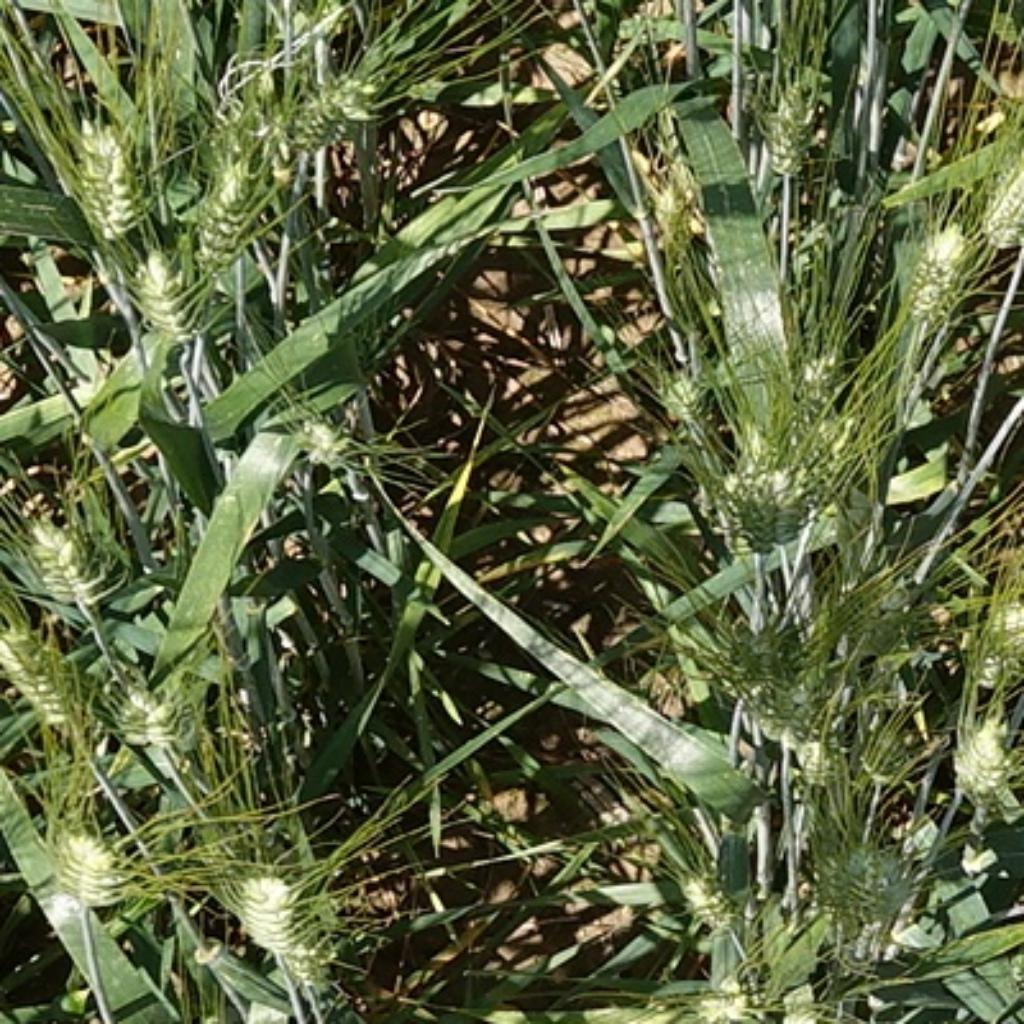0-0: (798, 811, 929, 957), (256, 46, 394, 151), (184, 128, 284, 268), (5, 483, 120, 604), (56, 97, 153, 238), (885, 209, 980, 327), (725, 621, 820, 732), (104, 660, 204, 757), (33, 806, 128, 908), (742, 61, 826, 171), (944, 704, 1024, 814), (801, 386, 875, 499), (757, 430, 821, 560), (0, 624, 79, 726), (224, 862, 307, 957), (716, 427, 775, 560), (957, 570, 1024, 683), (122, 240, 194, 343), (634, 151, 706, 250), (970, 115, 1024, 245), (645, 345, 719, 430), (673, 847, 747, 926), (286, 399, 355, 465), (785, 332, 847, 404), (683, 970, 760, 1024), (856, 717, 907, 780), (775, 980, 842, 1024), (273, 944, 331, 986), (794, 745, 843, 782)
